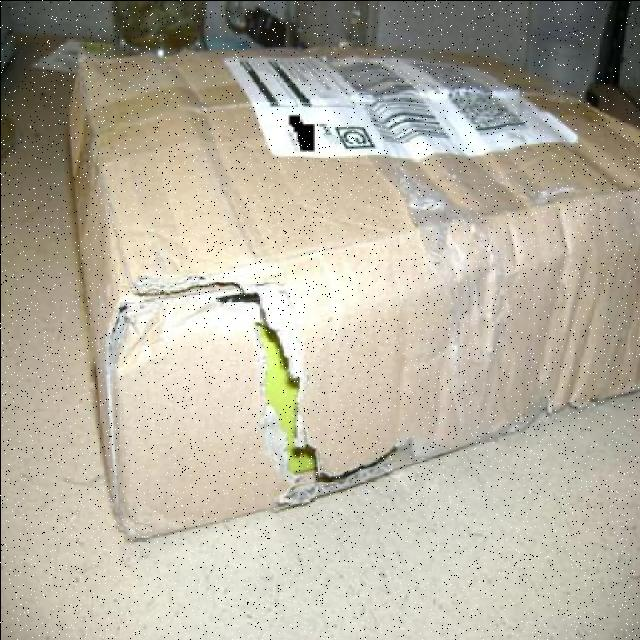defect: (70, 43, 632, 552)
